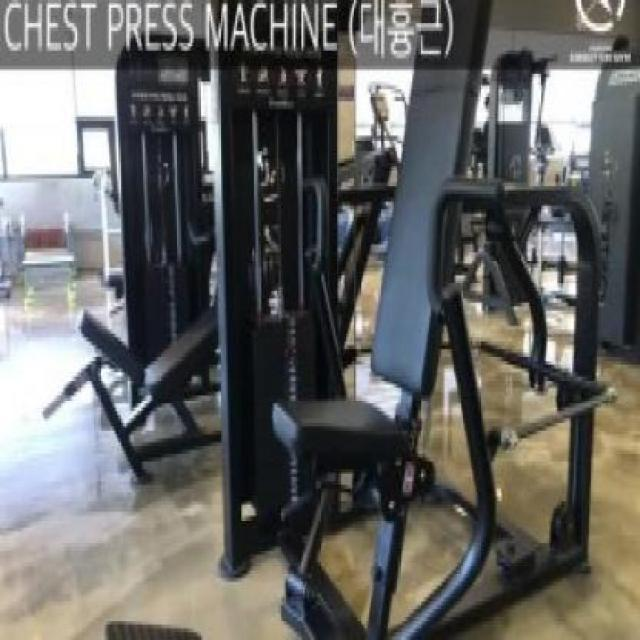Chest Press machine: (183, 3, 602, 640)
